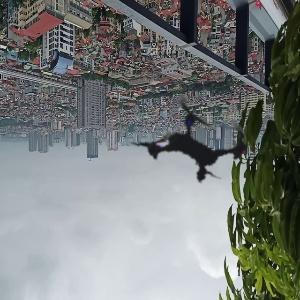drone: (109, 55, 283, 229)
